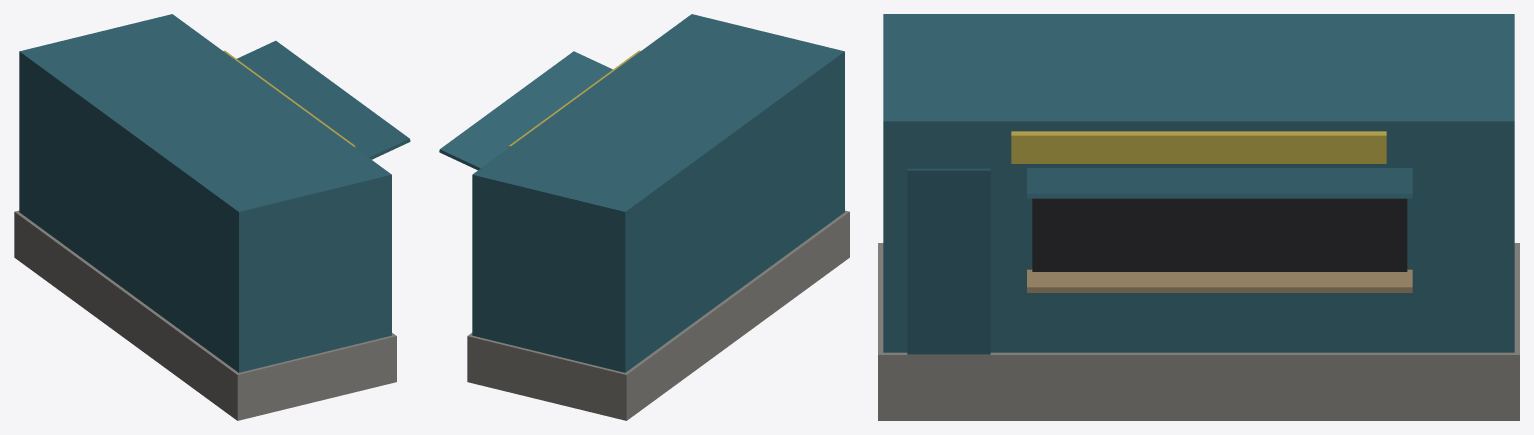
The model's file is SM_Prop_cafe_building_2_LOD2.glb.
3 renders of one model, left to right at view 1: azimuth 30°, elevation 25°; view 2: azimuth 150°, elevation 25°; view 3: azimuth 270°, elevation 25°, orthographic. The views are drawn at different scales.
Parts seen in each view (by area): view 1: SM_Prop_cafe_building_2_LOD2; view 2: SM_Prop_cafe_building_2_LOD2; view 3: SM_Prop_cafe_building_2_LOD2.
Boxes of the visible parts, bbox=[...] form: SM_Prop_cafe_building_2_LOD2: bbox=[14, 14, 410, 420]; SM_Prop_cafe_building_2_LOD2: bbox=[439, 14, 849, 420]; SM_Prop_cafe_building_2_LOD2: bbox=[878, 14, 1519, 420].
Size of the model in its own units: 3.58 by 3.15 by 6.16.
